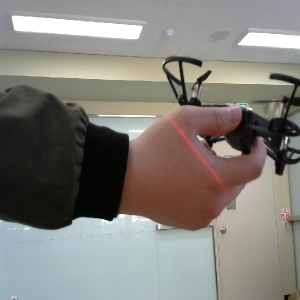Drone: (167, 50, 300, 172)
